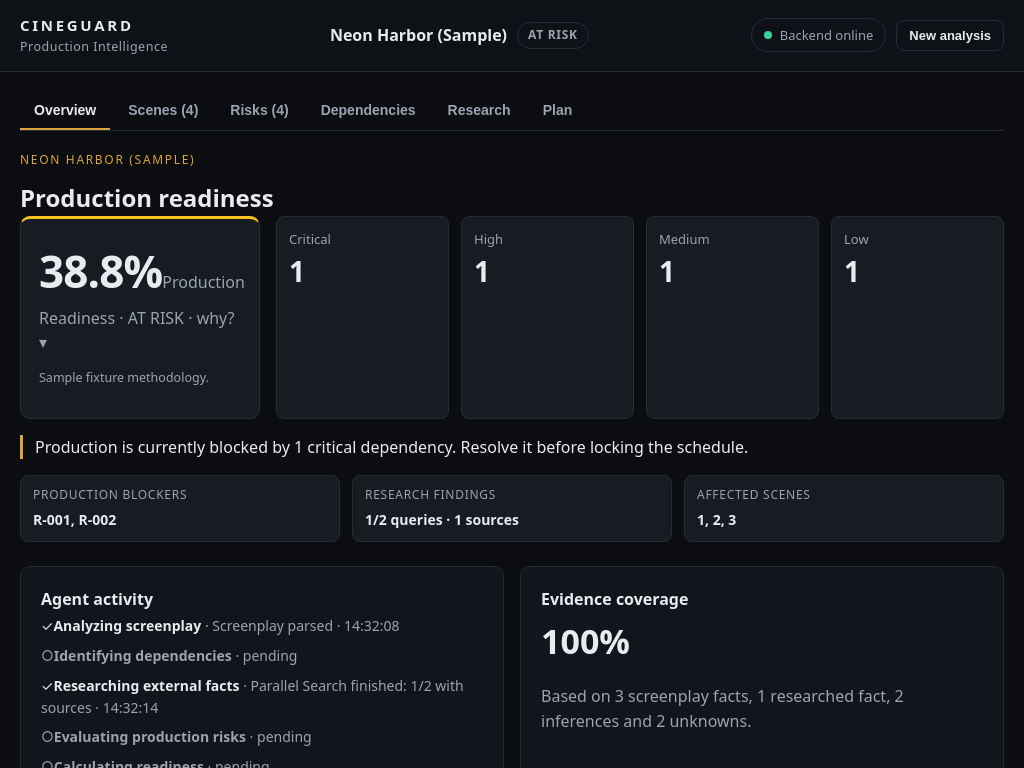
it: Command Center › renders real activity events and unknowns in risk detail
This screenshot has width=1024, height=768.
Expected: the text "· Screenplay parsed · 14:32:08" is shown, [201,616,400,635]
Expected: the text "· Parallel Search finished: 1/2 with sources · 14:32:14" is shown, [41,676,464,716]
Click the tab "Risks (4)": (260, 111) [216,92,303,130]
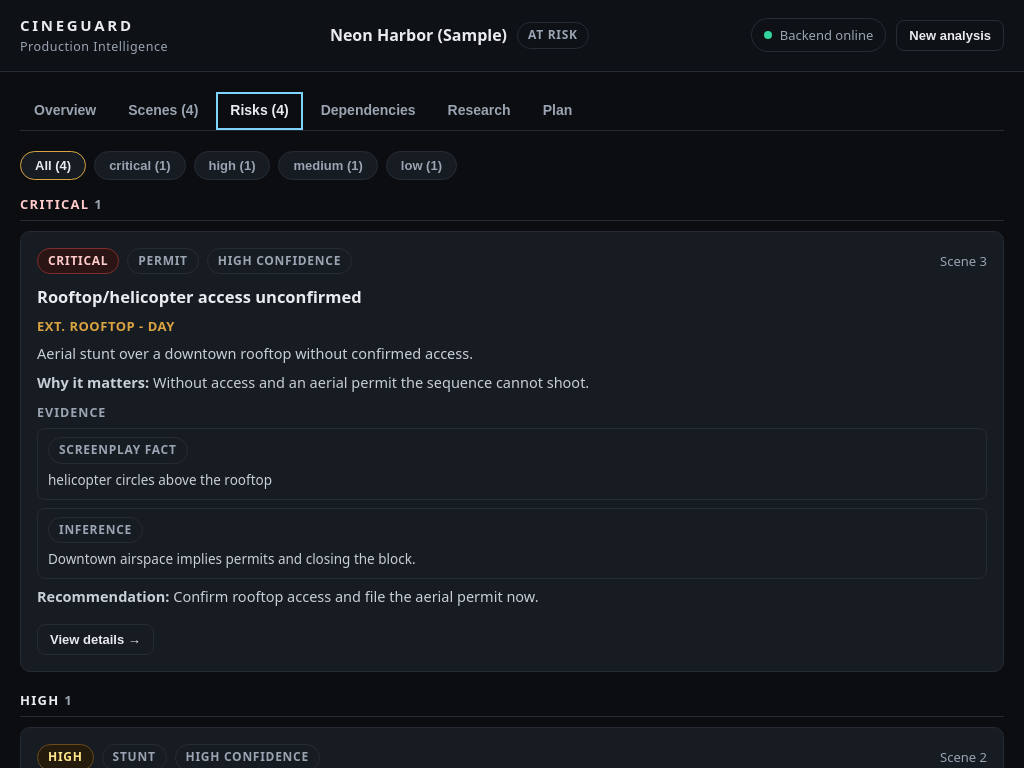
Click the button with aria-label "open details": (95, 639) [37,624,154,655]
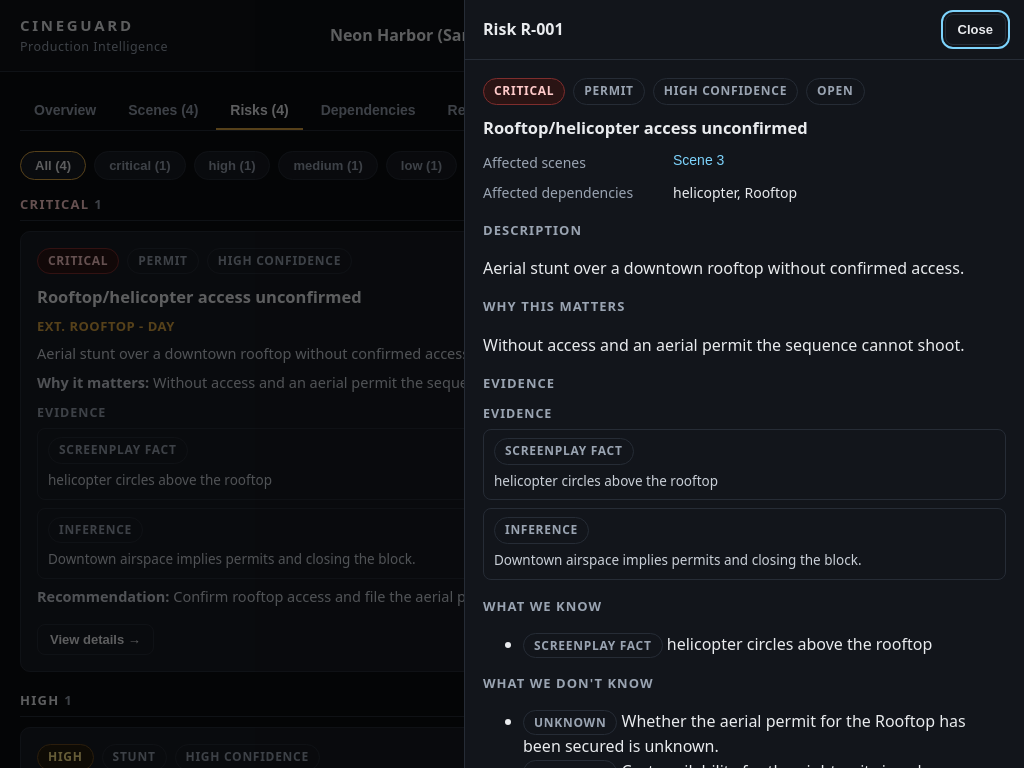
Expected: the heading "What we know" is shown, [483,597,602,615]
Expected: the heading "What we don't know" is shown, [483,674,654,692]
Expected: the 4th list item is shown, [523,710,966,757]
